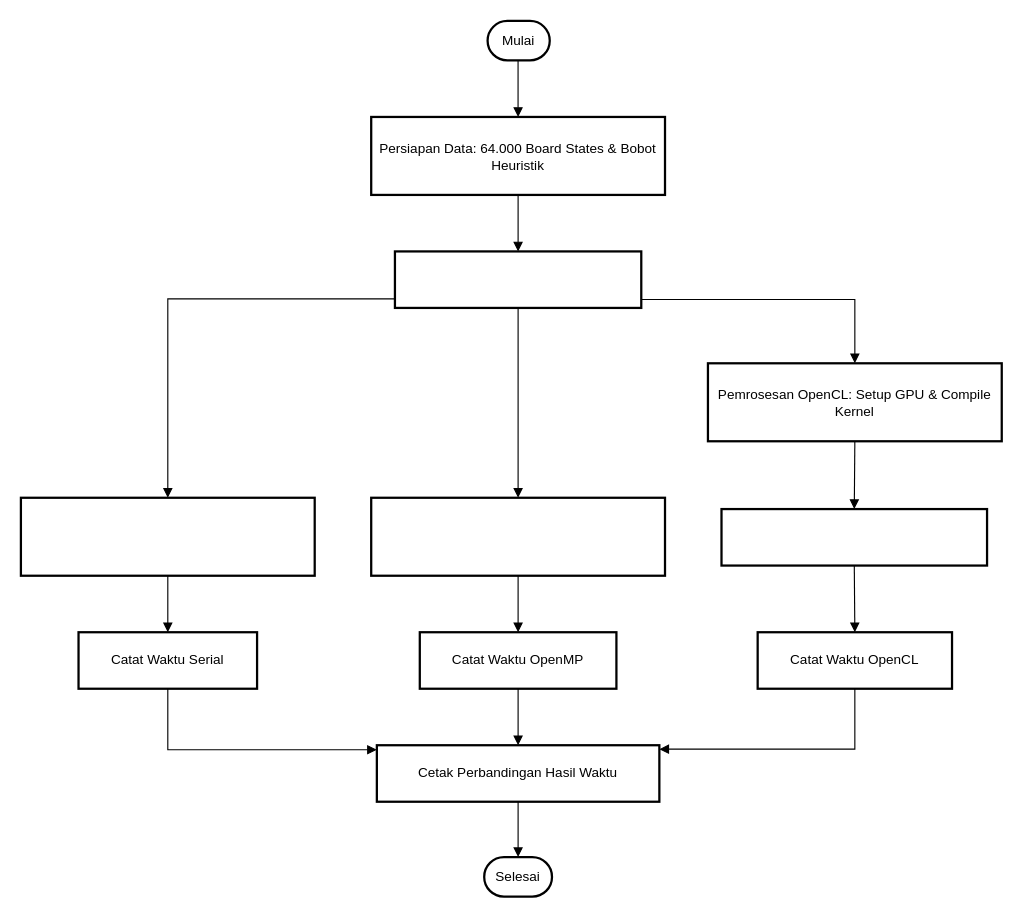
Image size: 1022x916. Some labels were removed from this diagram. The centre of each missing label's shape, as x and y in pixels:
"Enqueue GPU Kernel & Jalankan" goes at point (854, 536).
"Pemrosesan OpenMP: CPU Multicore & Pragmas" goes at point (518, 536).
"Pemrosesan Serial: Serial CPU Algorithm" goes at point (167, 536).
"Perbandingan Pemrosesan Inti" goes at point (517, 279).
